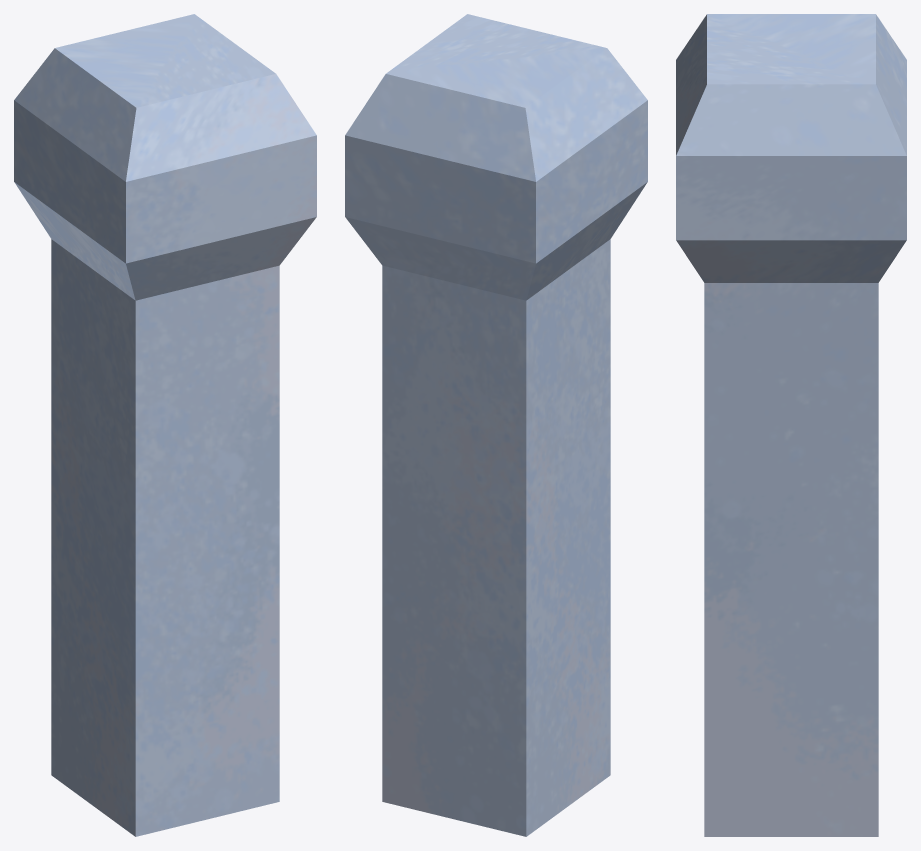
File: SM_museumRailing2.fbx
3 views of the same model, side by side, from view 1: azimuth 30°, elevation 25°; view 2: azimuth 150°, elevation 25°; view 3: azimuth 270°, elevation 25° (orthographic). The views are drawn at different scales.
Visible parts, largest first — view 1: railing2; view 2: railing2; view 3: railing2.
Boxes of the visible parts, x1,y1,x2,y2 form: railing2: (14, 14, 316, 836); railing2: (345, 14, 647, 836); railing2: (676, 14, 906, 836).
Size of the model in its own units: 2.41 by 8.78 by 2.44.
Materials: 1 (1 with a texture image).
